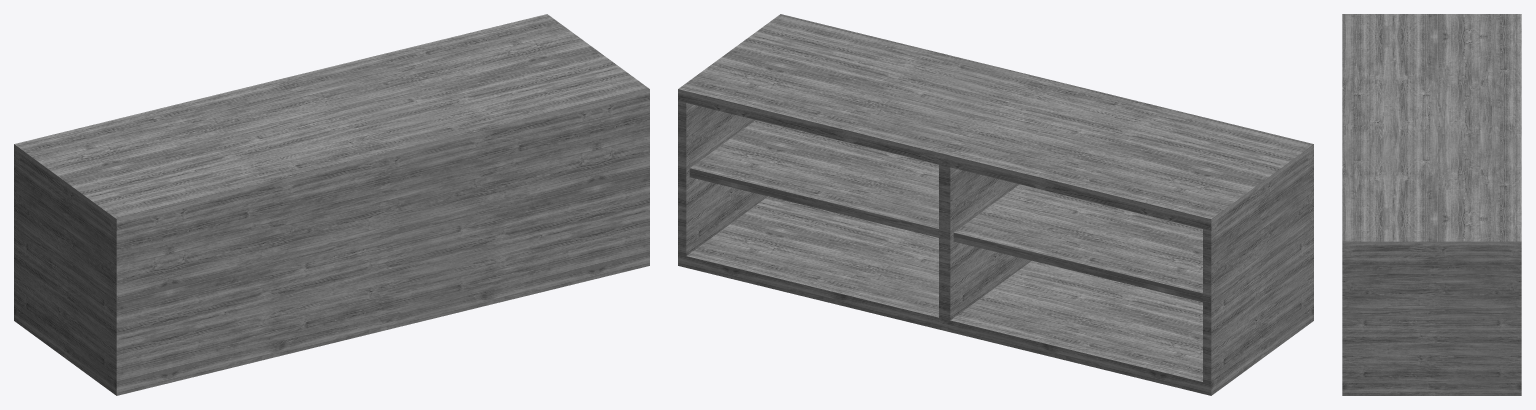
The model's file is Tv_Stand.FBX.
3 views of the same model, side by side, from view 1: azimuth 30°, elevation 25°; view 2: azimuth 150°, elevation 25°; view 3: azimuth 270°, elevation 25° (orthographic). The views are drawn at different scales.
Visible parts, largest first — view 1: Tv_Stand; view 2: Tv_Stand; view 3: Tv_Stand.
Part boxes in pixels (bbox=[...]): Tv_Stand: bbox=[14, 14, 649, 395]; Tv_Stand: bbox=[678, 14, 1313, 395]; Tv_Stand: bbox=[1342, 14, 1521, 395].
Bounding box in the file's own units: 2.18 × 0.6897 × 0.726.
